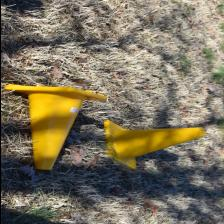cone: (3, 83, 107, 170), (102, 119, 206, 170)
